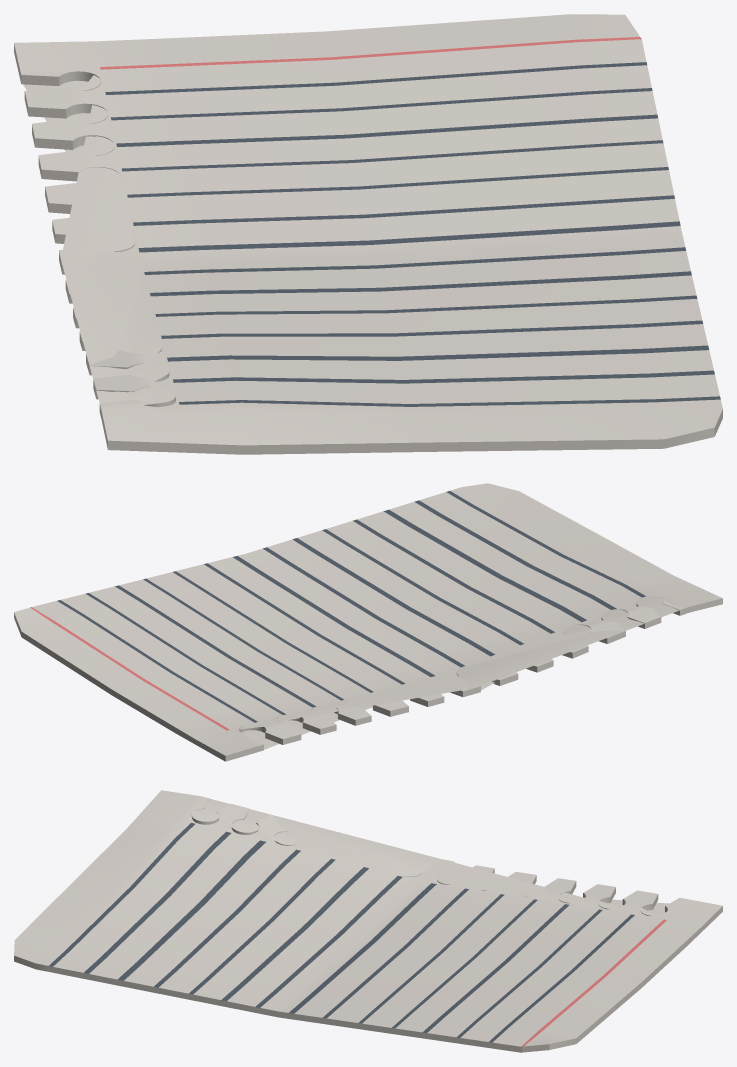
File: Note_Lined_Paper.fbx
The picture shows the model from 3 angles, top to bottom: view 1: azimuth 30°, elevation 25°; view 2: azimuth 150°, elevation 25°; view 3: azimuth 270°, elevation 25°; orthographic projection. The views are drawn at different scales.
Visible parts, largest first — view 1: pasted__pCube3; view 2: pasted__pCube3; view 3: pasted__pCube3.
Part boxes in pixels (box(x1,y1,x2,y2)): pasted__pCube3: box(14, 14, 722, 454); pasted__pCube3: box(14, 483, 722, 761); pasted__pCube3: box(14, 790, 722, 1052).
Bounding box in the file's own units: 0.4357 × 0.0213 × 0.5128.
